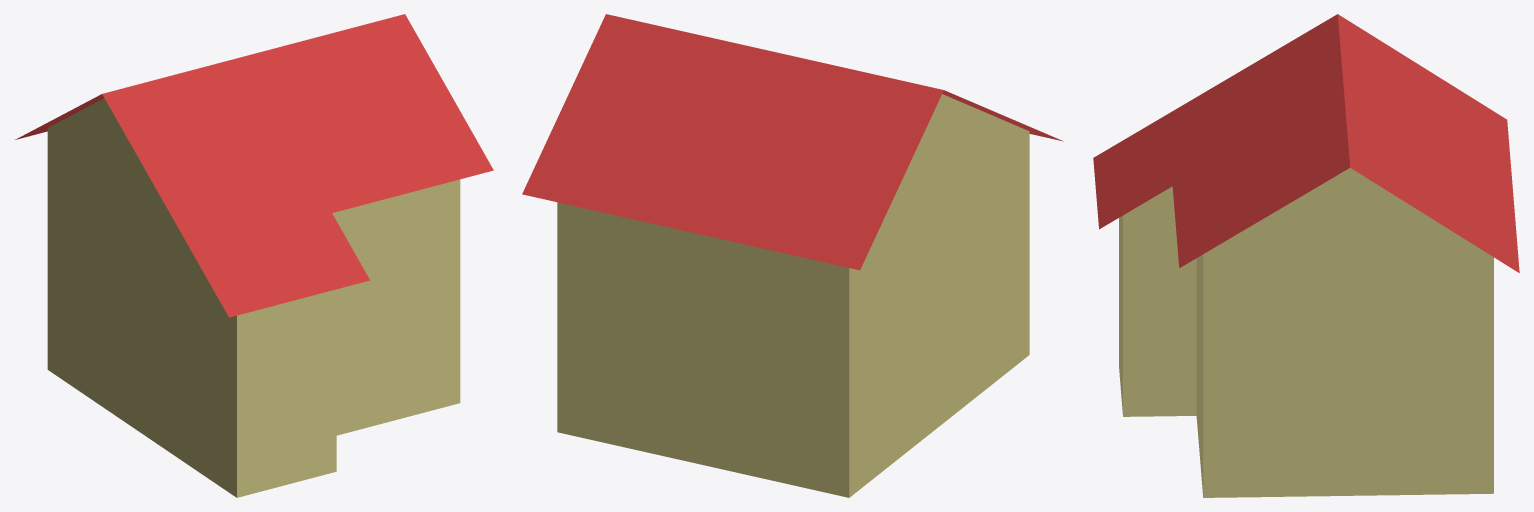
3 renders of one model, left to right at view 1: azimuth 30°, elevation 25°; view 2: azimuth 150°, elevation 25°; view 3: azimuth 270°, elevation 25°, orthographic. The views are drawn at different scales.
Bounding box in the file's own units: 11.34 × 12.88 × 11.28.
